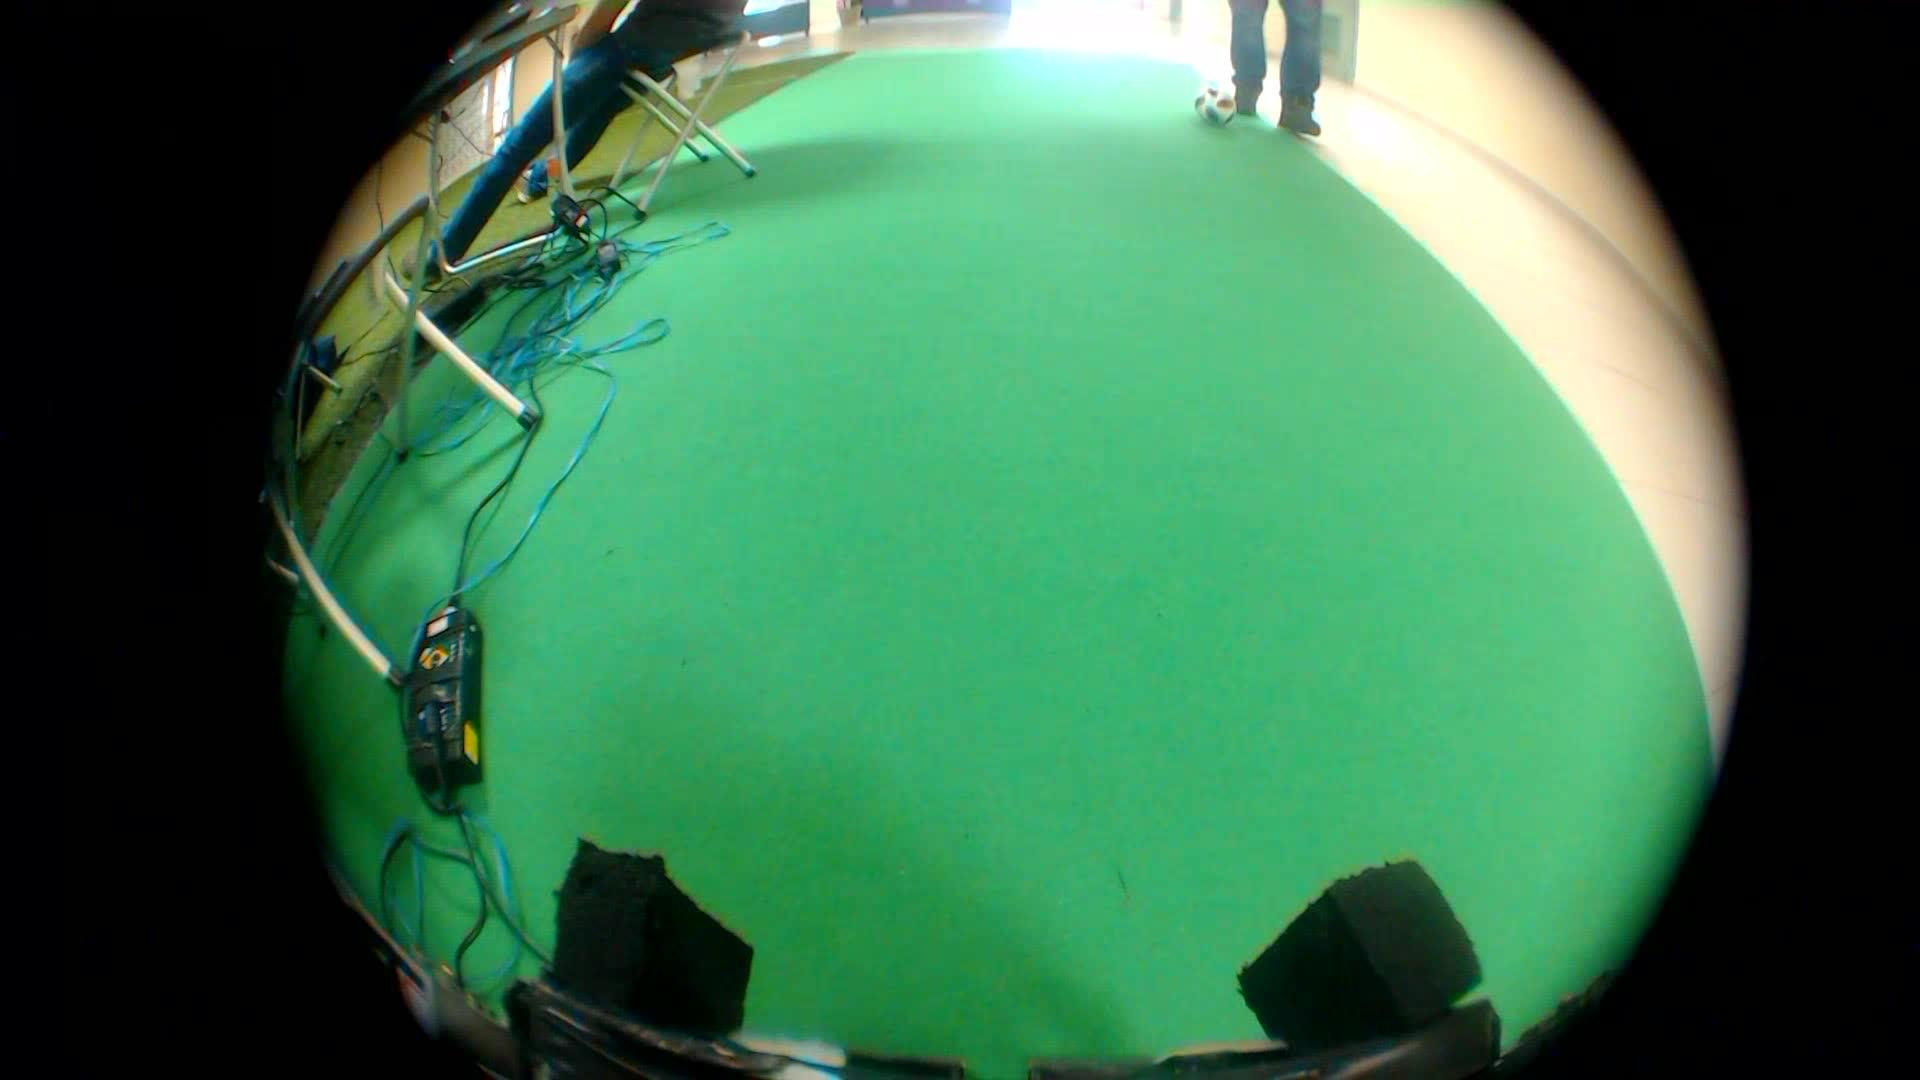ball: (1184, 83, 1237, 137)
